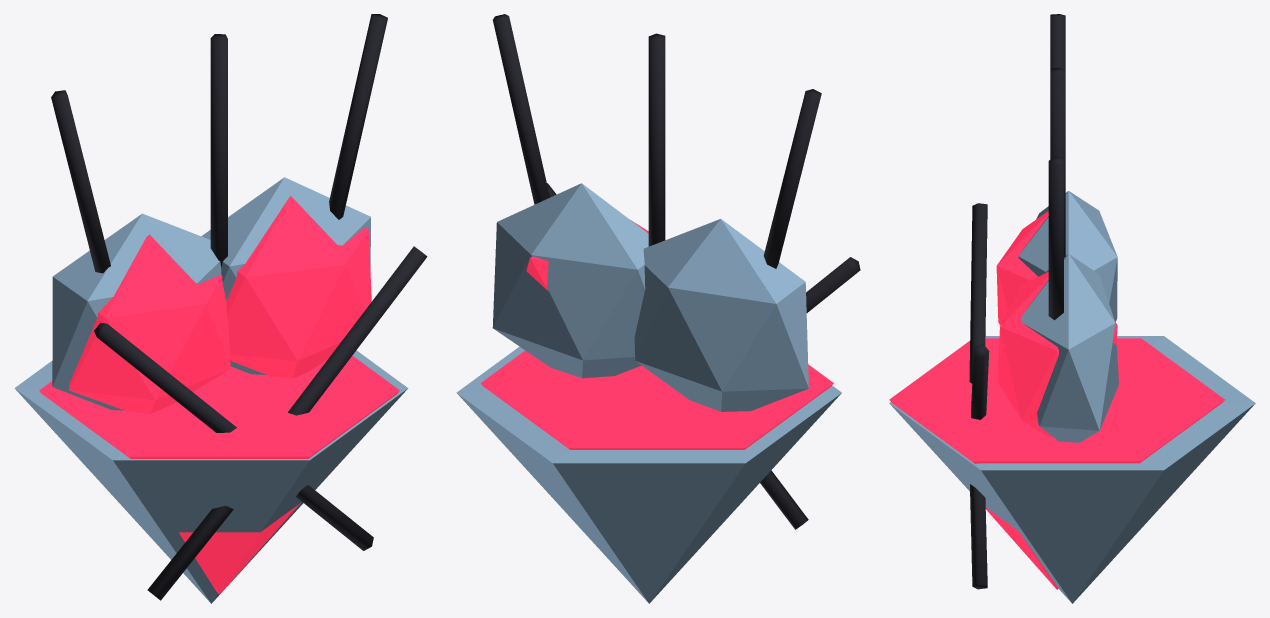
The model's file is heart_of_sorrow.glb.
3 views of the same model, side by side, from view 1: azimuth 30°, elevation 25°; view 2: azimuth 150°, elevation 25°; view 3: azimuth 270°, elevation 25° (orthographic). The views are drawn at different scales.
Visible parts, largest first — view 1: heart_of_sorrow; view 2: heart_of_sorrow; view 3: heart_of_sorrow.
Boxes of the visible parts, x1,y1,x2,y2 form: heart_of_sorrow: (14,14,427,603); heart_of_sorrow: (456,14,860,603); heart_of_sorrow: (889,14,1255,603).
Bounding box in the file's own units: 0.9406 × 1.54 × 0.96.
